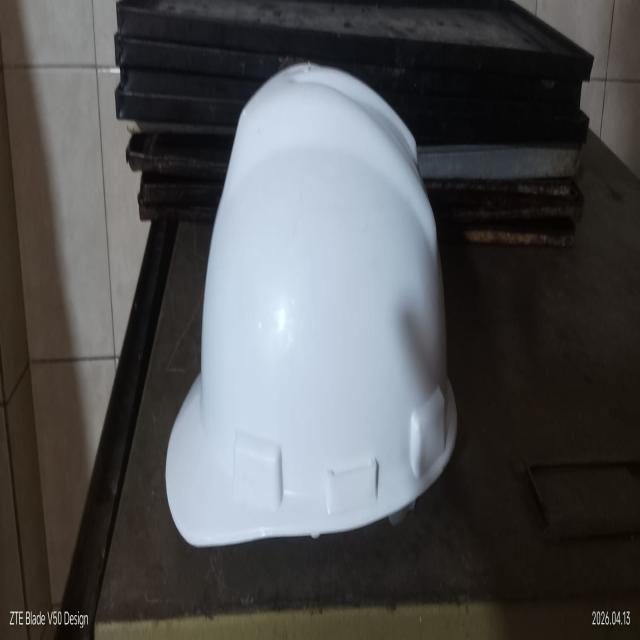casco: (148, 53, 468, 550)
